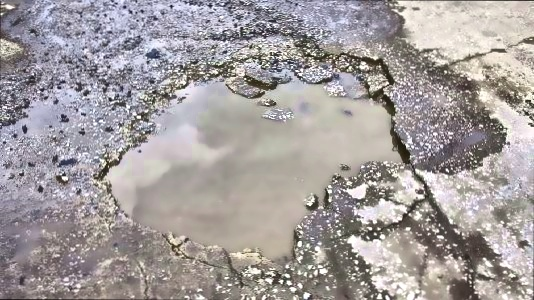pothole: (93, 49, 413, 266)
